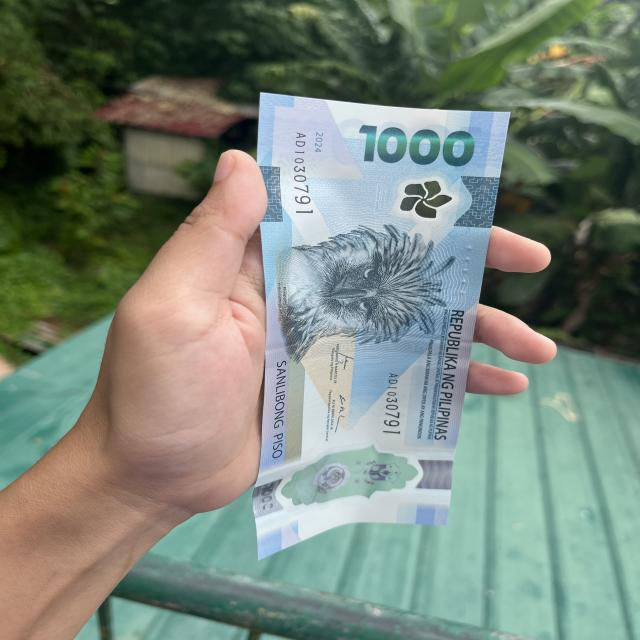clear_window: (272, 451, 416, 506)
eagle: (285, 220, 442, 332)
sampaguita: (368, 168, 464, 230)
serial_number: (291, 128, 322, 222), (376, 368, 408, 442)
value: (356, 118, 479, 179)
value_watermark: (260, 480, 285, 518)
